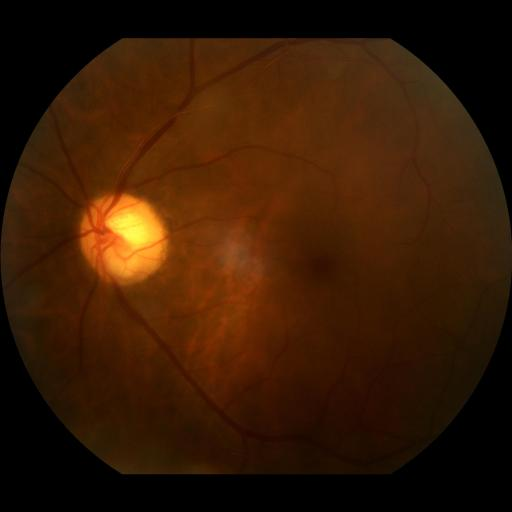Optic Cup: (102, 209, 157, 252)
Optic Disc: (79, 193, 169, 287)
